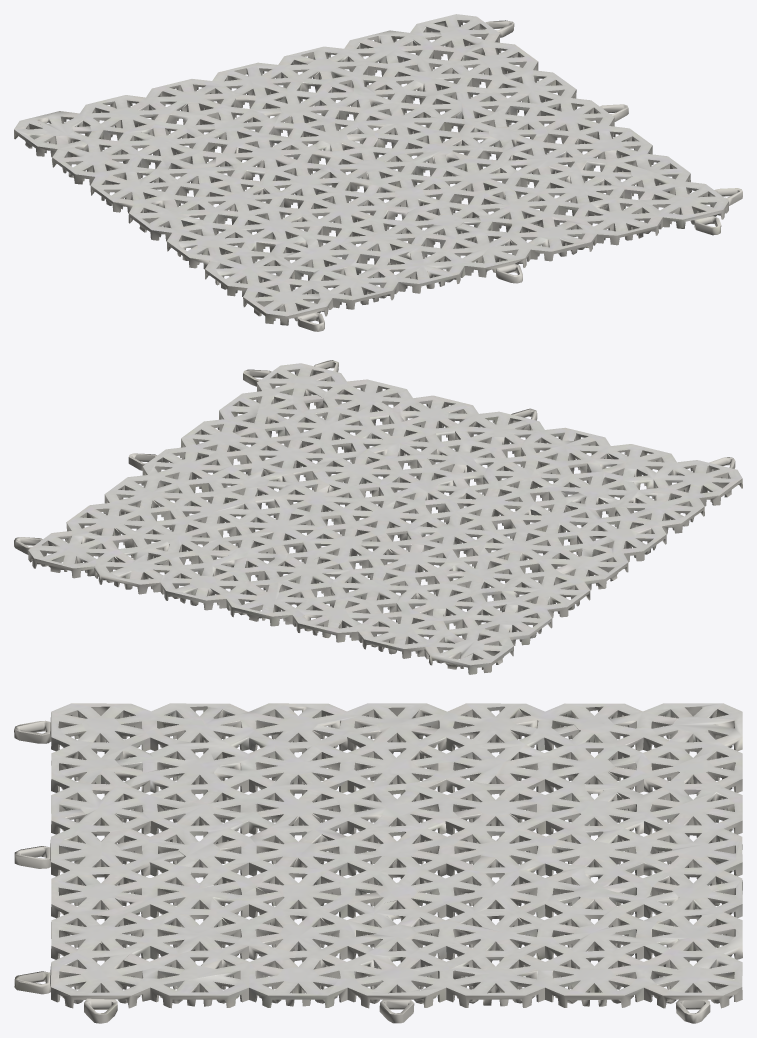
Rendered from altappen_pyta_podogowa_ogrodowa_90420898.glb.
The picture shows the model from 3 angles, top to bottom: view 1: azimuth 30°, elevation 25°; view 2: azimuth 150°, elevation 25°; view 3: azimuth 270°, elevation 25°; orthographic projection. The views are drawn at different scales.
Visible parts, largest first — view 1: altappen_pyta_podogowa_ogrodowa_90420898; view 2: altappen_pyta_podogowa_ogrodowa_90420898; view 3: altappen_pyta_podogowa_ogrodowa_90420898.
Boxes of the visible parts, bbox=[...] form: altappen_pyta_podogowa_ogrodowa_90420898: bbox=[14, 14, 742, 331]; altappen_pyta_podogowa_ogrodowa_90420898: bbox=[14, 360, 742, 674]; altappen_pyta_podogowa_ogrodowa_90420898: bbox=[14, 703, 742, 1023].
Bounding box in the file's own units: 0.3174 × 0.00658 × 0.3175.
Materials: 1 (1 with a texture image).
